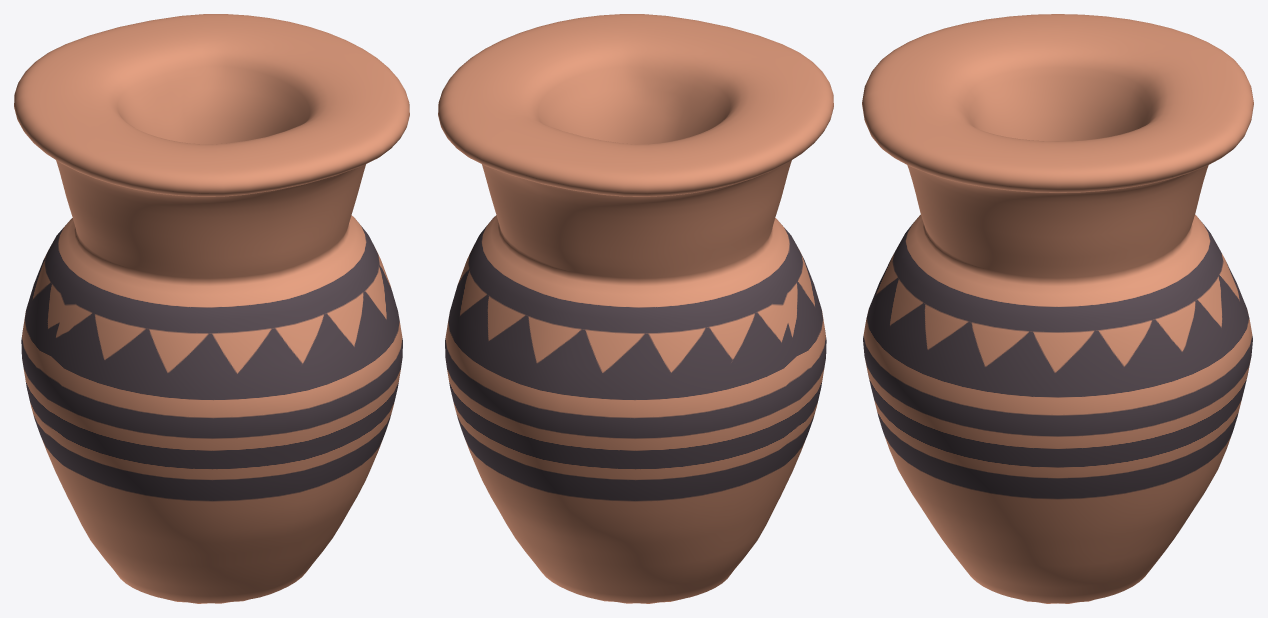
Rendered from Vase2.fbx.
3 renders of one model, left to right at view 1: azimuth 30°, elevation 25°; view 2: azimuth 150°, elevation 25°; view 3: azimuth 270°, elevation 25°, orthographic.
Visible parts, largest first — view 1: Vase2; view 2: Vase2; view 3: Vase2.
Boxes of the visible parts, x1,y1,x2,y2 form: Vase2: [14, 14, 409, 603]; Vase2: [438, 14, 833, 603]; Vase2: [862, 14, 1253, 603].
Bounding box in the file's own units: 35.7 × 48.41 × 35.88.
